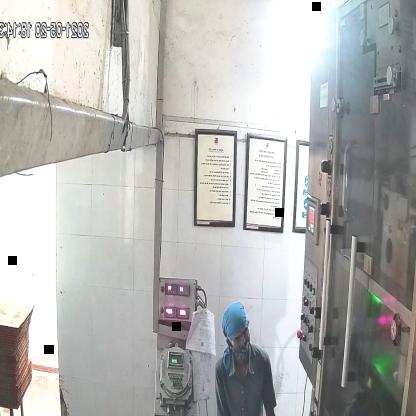goggles: (226, 320, 254, 350)
